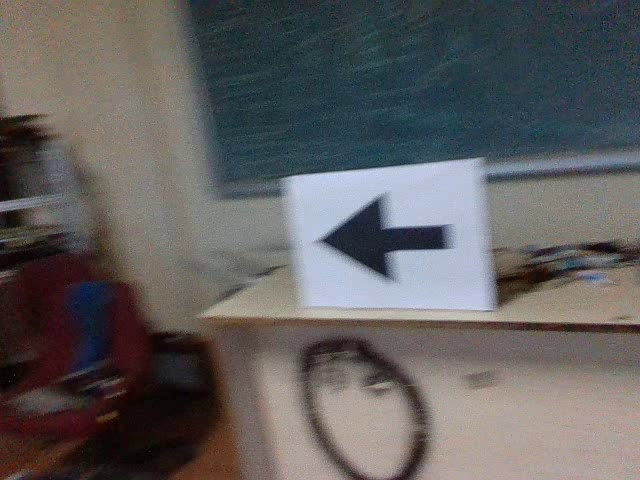Left: (310, 185, 461, 284)
